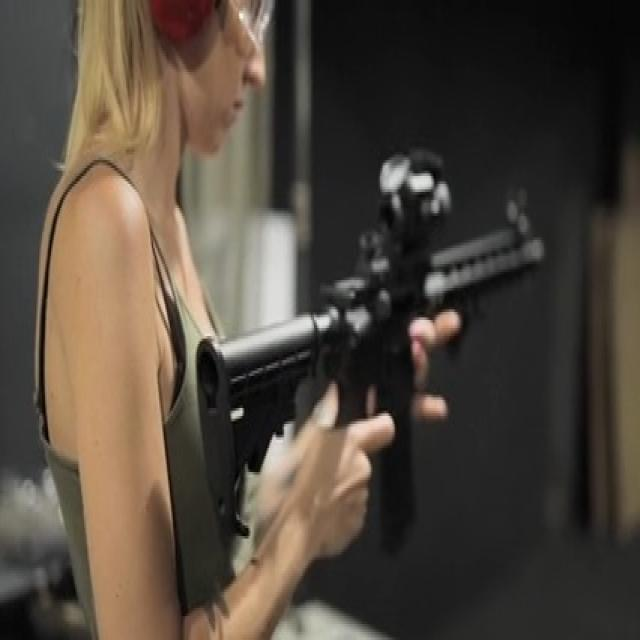Gun_Holder: (152, 134, 578, 600)
Person: (32, 0, 378, 640)
